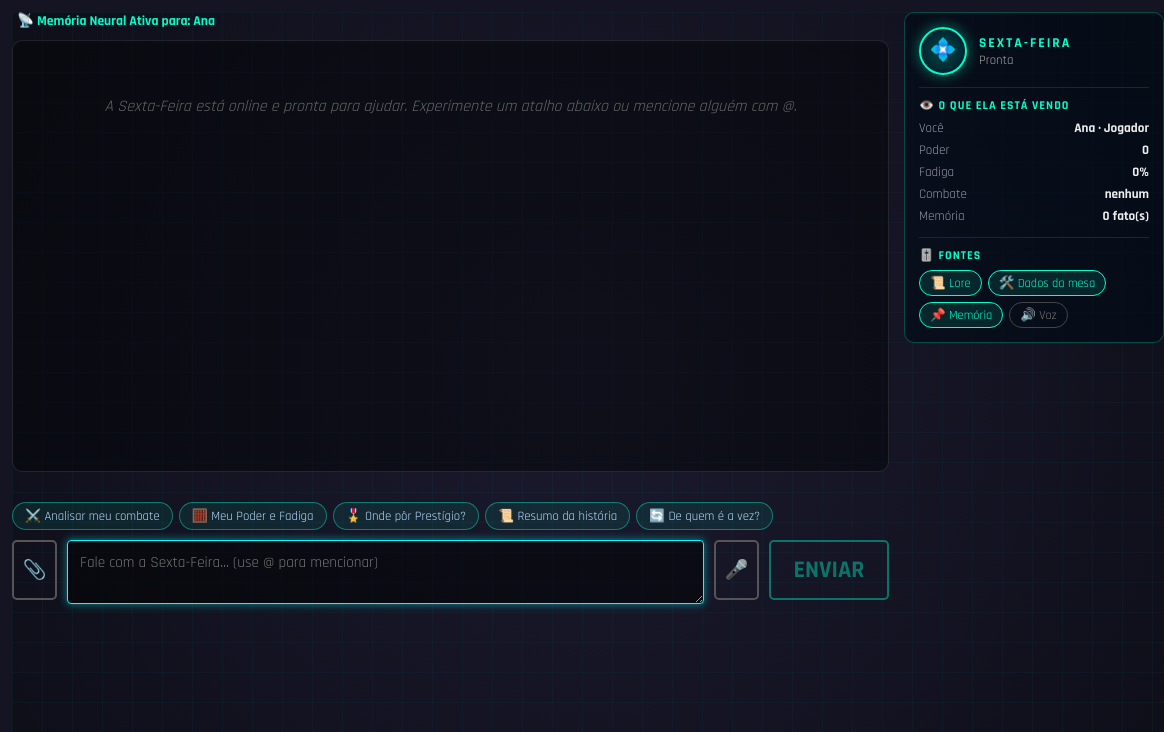
BotaoMicrofone - configuracao e fluxo feliz › texto digitado vira prefixo do falado
Type "me fale sobre" into the text box named "Mensagem para a Sexta-Feira" at coordinates (386, 572), box [67, 540, 704, 604]
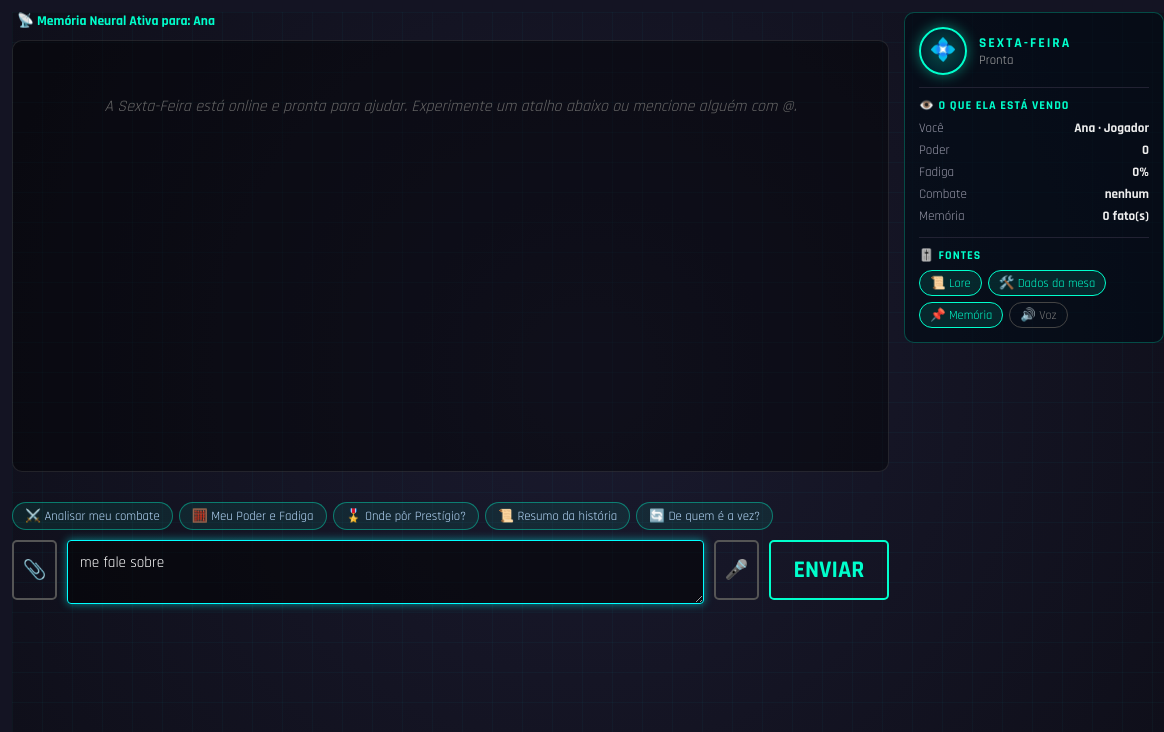
Click the button "🎤" at coordinates (736, 570), box [714, 540, 759, 600]
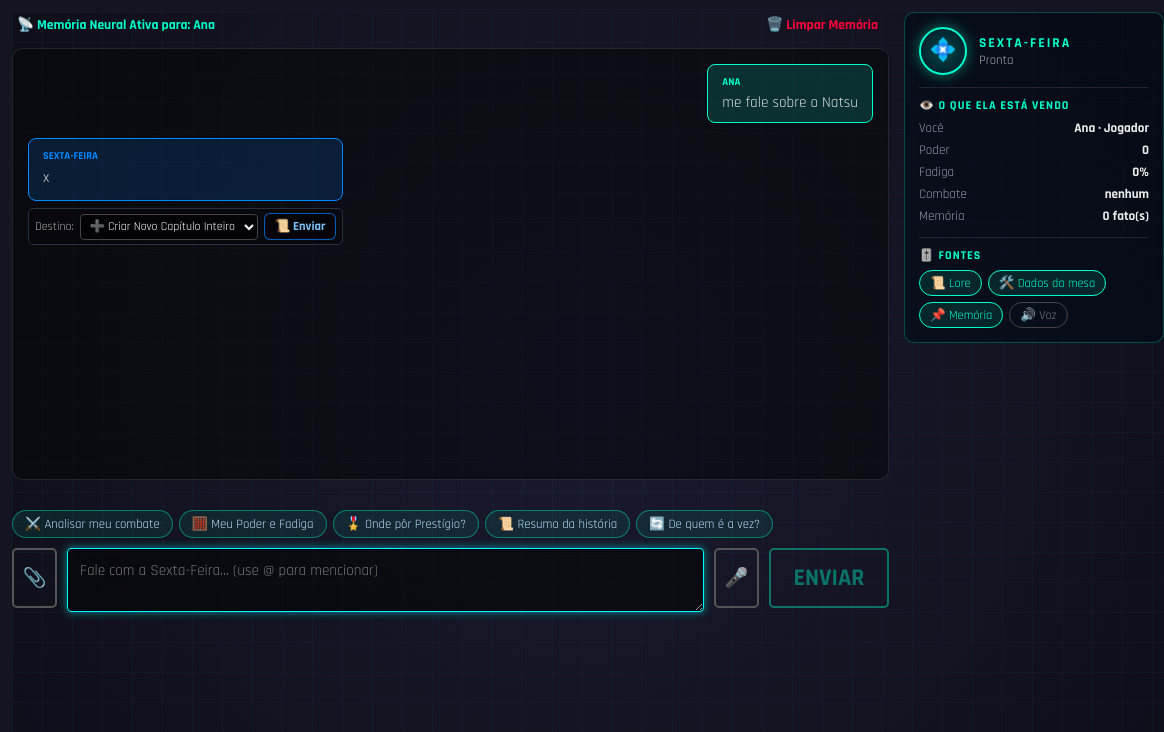
Expected: the text "me fale sobre o Natsu" is shown, [722, 93, 858, 112]
Expected: the text box named "Mensagem para a Sexta-Feira" is empty, [67, 548, 704, 612]
